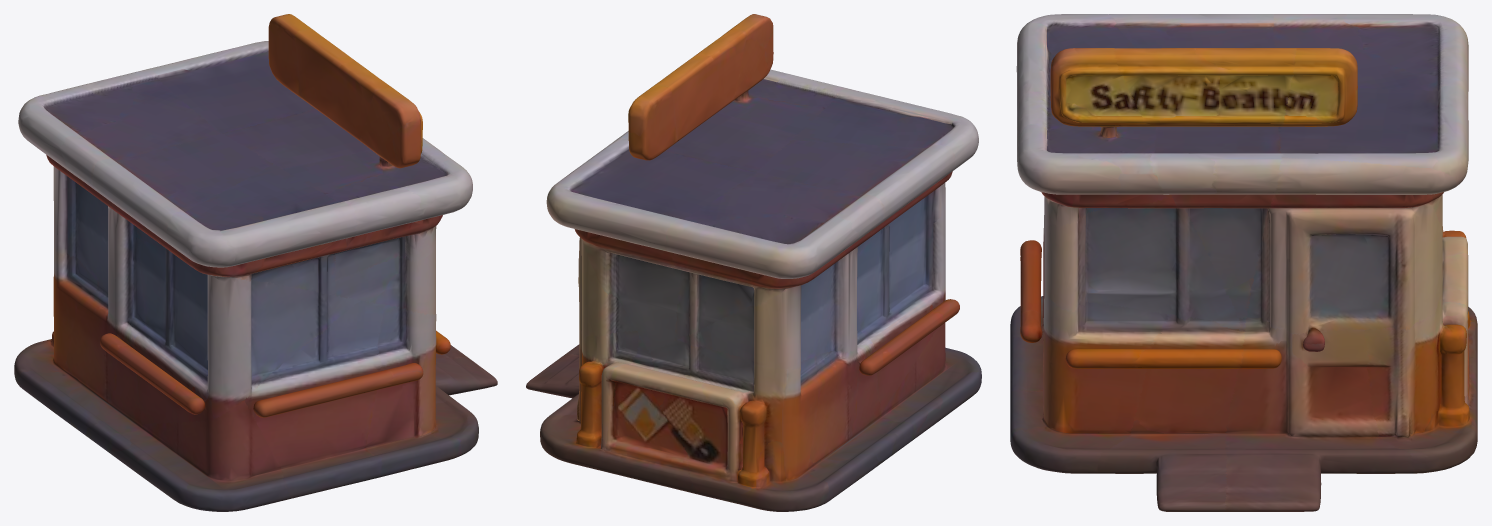
The model's file is guild_safety_station.glb.
The picture shows the model from 3 angles, left to right: view 1: azimuth 30°, elevation 25°; view 2: azimuth 150°, elevation 25°; view 3: azimuth 270°, elevation 25°; orthographic projection. The views are drawn at different scales.
Visible parts, largest first — view 1: tripo_node_d956eeea-3d46-43b2-ad66-19499ff53c1e; view 2: tripo_node_d956eeea-3d46-43b2-ad66-19499ff53c1e; view 3: tripo_node_d956eeea-3d46-43b2-ad66-19499ff53c1e.
Part boxes in pixels (left/top/right/bottom): tripo_node_d956eeea-3d46-43b2-ad66-19499ff53c1e: left=14, top=14, right=497, bottom=511; tripo_node_d956eeea-3d46-43b2-ad66-19499ff53c1e: left=526, top=14, right=981, bottom=511; tripo_node_d956eeea-3d46-43b2-ad66-19499ff53c1e: left=1010, top=14, right=1477, bottom=511.
Size of the model in its own units: 0.9484 by 0.8593 by 0.9377.
1 material, 1 textured.
